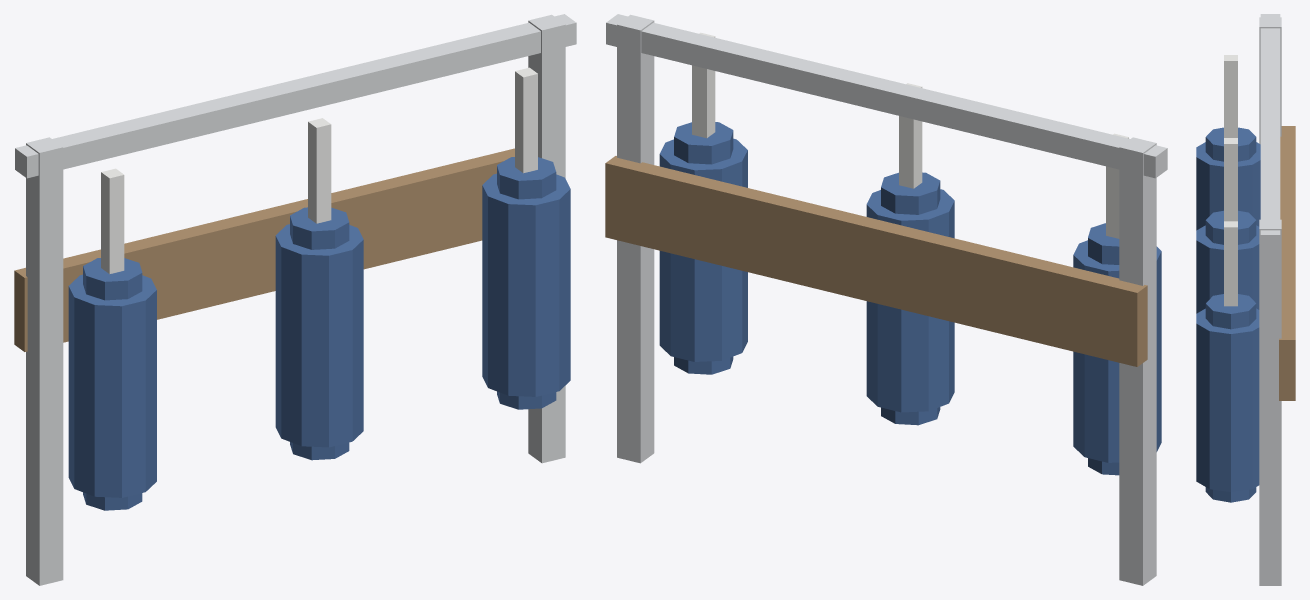
The model's file is marina-and-yacht-club-marina-and-yacht-club-fender-set-ddf80a88__38299.glb.
3 renders of one model, left to right at view 1: azimuth 30°, elevation 25°; view 2: azimuth 150°, elevation 25°; view 3: azimuth 270°, elevation 25°, orthographic. The views are drawn at different scales.
Parts seen in each view (by area): view 1: marina-and-yacht-club-fender-set; view 2: marina-and-yacht-club-fender-set; view 3: marina-and-yacht-club-fender-set.
Part boxes in pixels (x1,y1,x2,y2): marina-and-yacht-club-fender-set: [14, 14, 576, 585]; marina-and-yacht-club-fender-set: [605, 14, 1167, 585]; marina-and-yacht-club-fender-set: [1196, 14, 1295, 585].
Bounding box in the file's own units: 1.86 × 1.4 × 0.3536.
